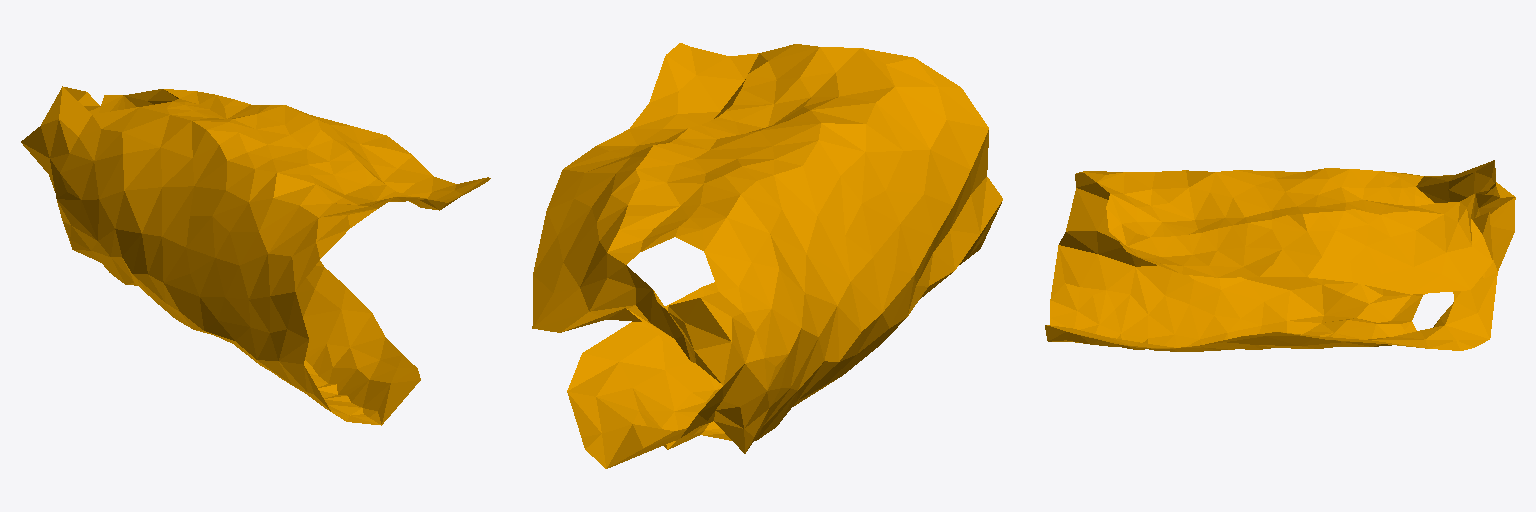
robot.urdf — init:
<?xml version='1.0' encoding='utf-8'?>
<robot name="init">
<link name="link_0"><inertial><mass value="1.0" /><origin rpy="0 0 0" xyz="0.000000 0.000000 0.000000" /><inertia ixx="1.0" ixy="0.0" ixz="0.0" iyy="1.0" iyz="0.0" izz="1.0" /></inertial><visual><origin rpy="0 0 0" xyz="0.000000 0.000000 0.000000" /><geometry><mesh filename="./clothHuman/cloth/2795.obj" /></geometry></visual><collision><origin rpy="0 0 0" xyz="0.000000 0.000000 0.000000" /><geometry><mesh filename="./clothHuman/cloth/2795.obj" /></geometry></collision></link></robot>

--- Facts derived from the render (not from the file) ---
The picture shows the robot from 3 angles, left to right: view 1: azimuth 30°, elevation 25°; view 2: azimuth 150°, elevation 25°; view 3: azimuth 270°, elevation 25°; orthographic projection.
Robot: init — 1 links, 0 joints (none); root link link_0; default pose: every joint at zero.
Visible links, largest first — view 1: link_0; view 2: link_0; view 3: link_0.
Boxes of the visible links, bbox=[...] form: link_0: bbox=[21, 86, 490, 425]; link_0: bbox=[532, 43, 1002, 468]; link_0: bbox=[1045, 160, 1515, 351].
Bounding box of the posed robot: 2.17 × 3.87 × 1.59 m (x, y, z).
1 mesh visuals loaded from 1 distinct referenced files (1 OBJ).